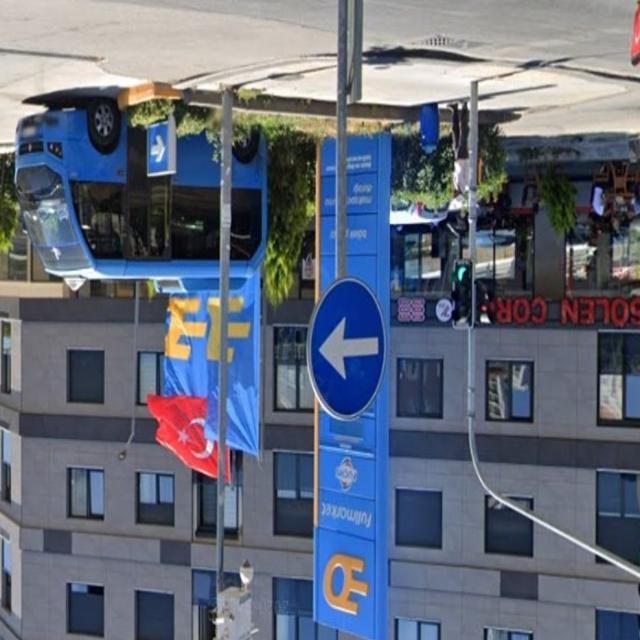Turn Left: (301, 276, 391, 424)
